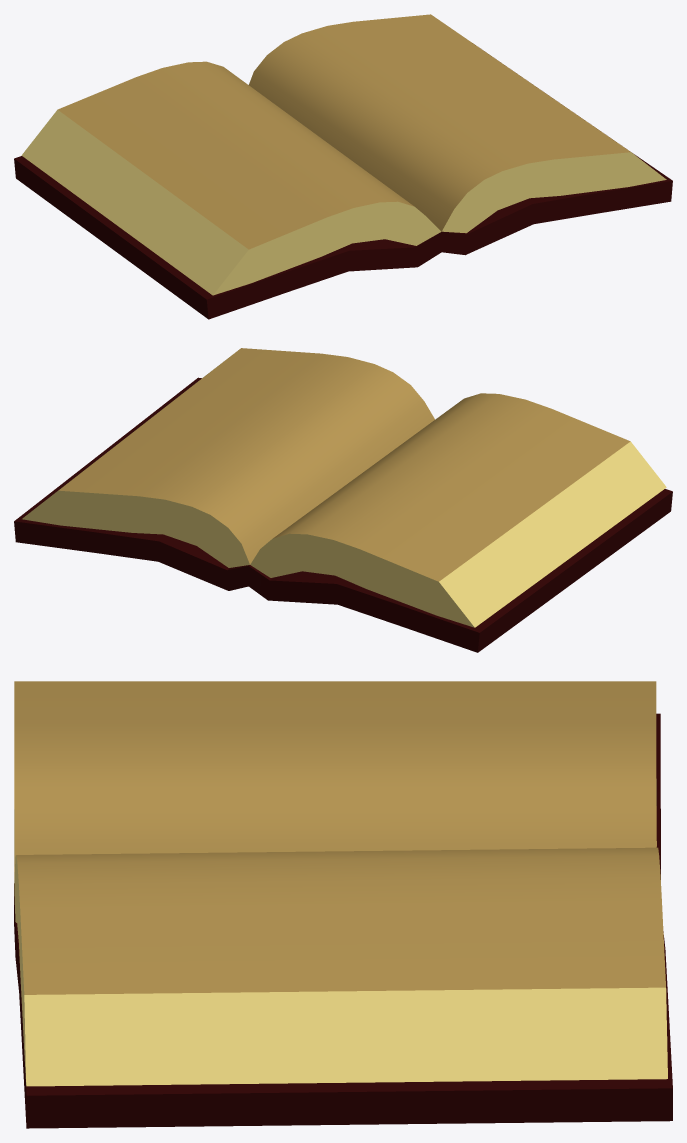
The model's file is Book for menu.fbx.
3 views of the same model, one above another, from view 1: azimuth 30°, elevation 25°; view 2: azimuth 150°, elevation 25°; view 3: azimuth 270°, elevation 25° (orthographic). The views are drawn at different scales.
Visible parts, largest first — view 1: Plane.001, Plane; view 2: Plane.001, Plane; view 3: Plane.001, Plane.
Part boxes in pixels (x1,y1,x2,y2): Plane.001: [21, 14, 666, 295]; Plane: [14, 153, 672, 319]; Plane.001: [22, 348, 666, 627]; Plane: [14, 377, 672, 652]; Plane.001: [14, 681, 667, 1086]; Plane: [14, 713, 672, 1128].
Bounding box in the file's own units: 480 × 74.82 × 347.
